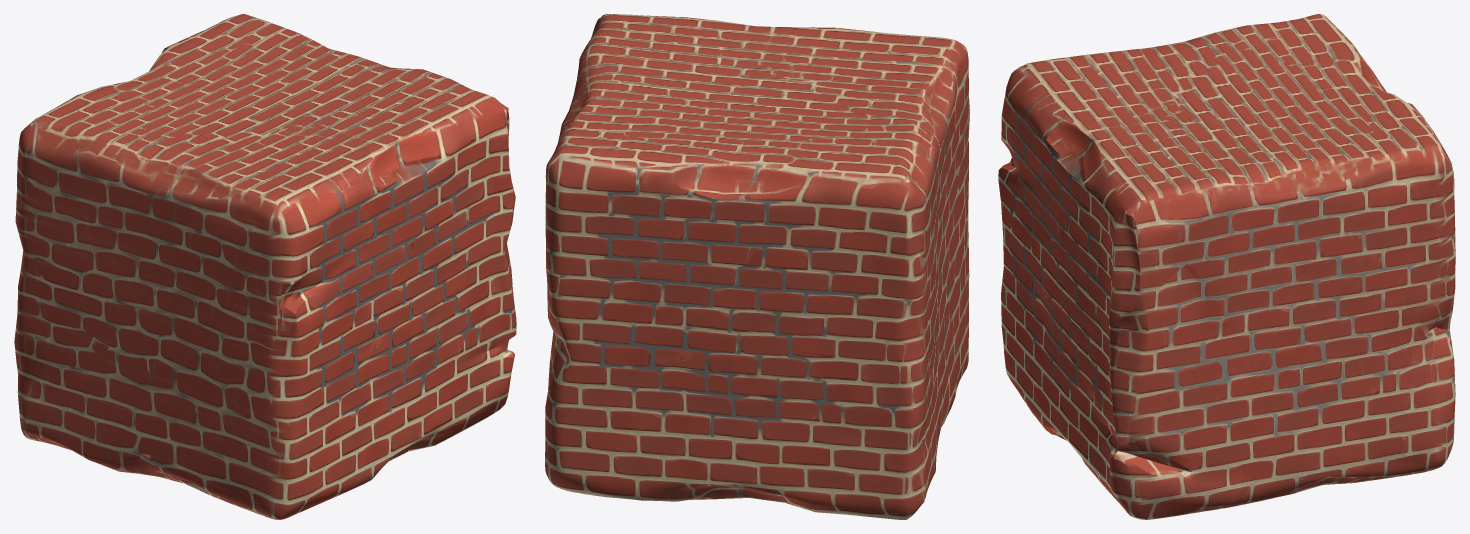
File: brick_cinder_redbrick.glb
3 renders of one model, left to right at view 1: azimuth 30°, elevation 25°; view 2: azimuth 150°, elevation 25°; view 3: azimuth 270°, elevation 25°, orthographic. The views are drawn at different scales.
Visible parts, largest first — view 1: Mesh_0; view 2: Mesh_0; view 3: Mesh_0.
Boxes of the visible parts, bbox=[...] form: Mesh_0: bbox=[14, 14, 516, 519]; Mesh_0: bbox=[545, 14, 969, 519]; Mesh_0: bbox=[998, 14, 1455, 519].
Bounding box in the file's own units: 1.9 × 1.47 × 1.84.
1 material, 1 textured.
